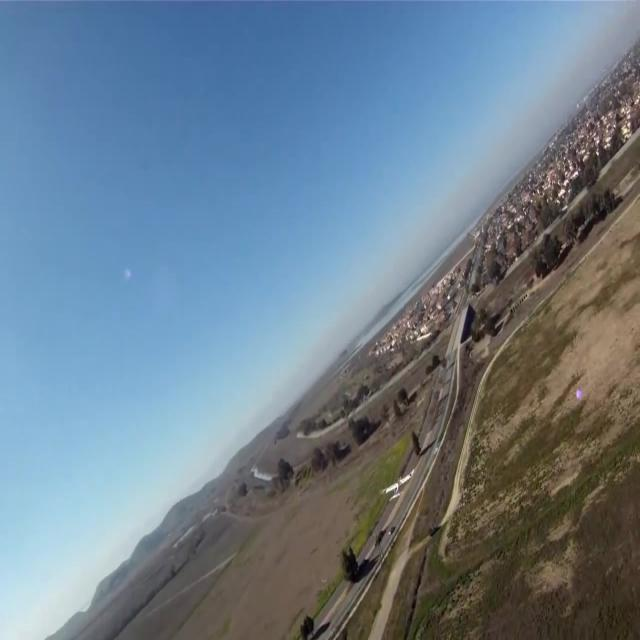iha: (372, 469, 408, 502)
